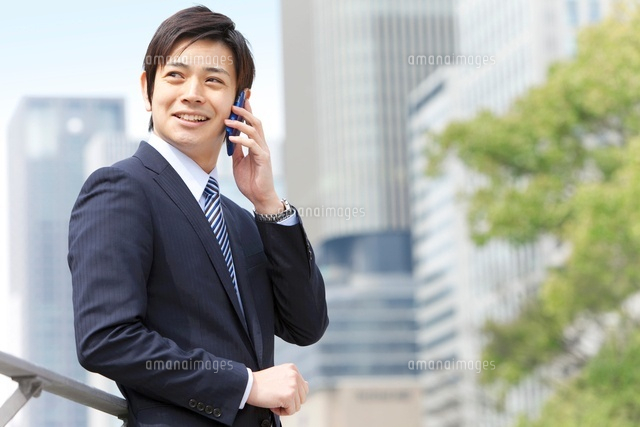phone: (220, 86, 268, 171)
talk: (154, 57, 277, 198)
